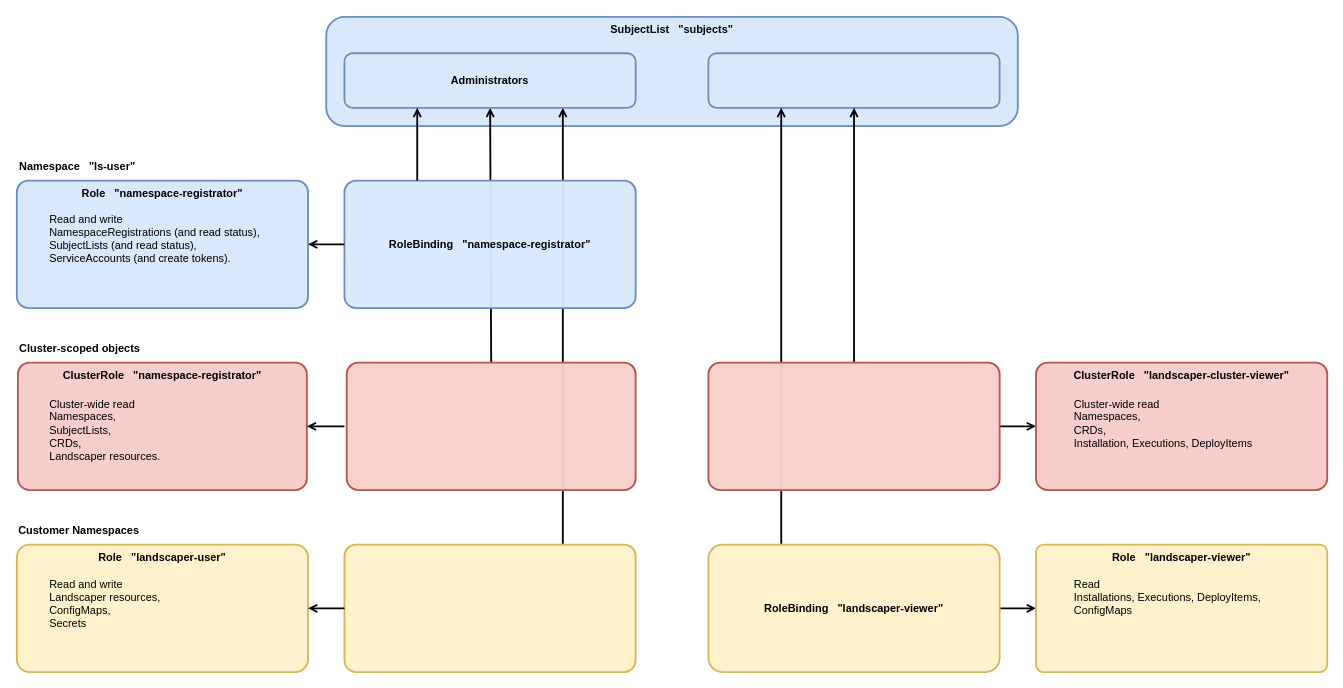
This 1343x688 diagram has some shape labels left out. The centre of each missing label's shape, as x and y in pixels:
ClusterRoleBinding "landscaper-cluster-viewer": the point at 853,425
ClusterRoleBinding "namespace-registrator": the point at 490,425
RoleBinding "landscaper-user": the point at 489,607
Viewers: the point at 853,80
